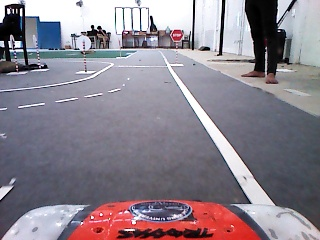stop: (168, 28, 186, 44)
